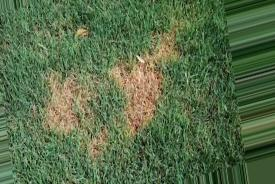patch: (132, 73, 159, 101), (54, 96, 74, 122), (56, 86, 76, 92), (137, 107, 143, 118)
